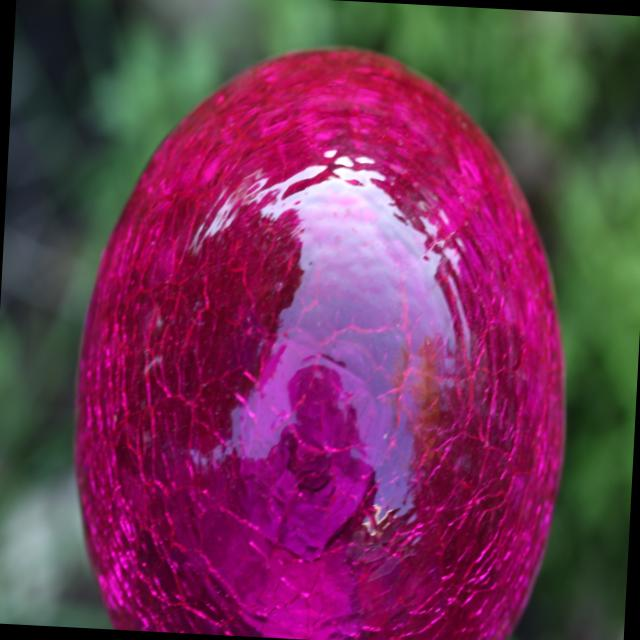Ball: (65, 33, 586, 640)
